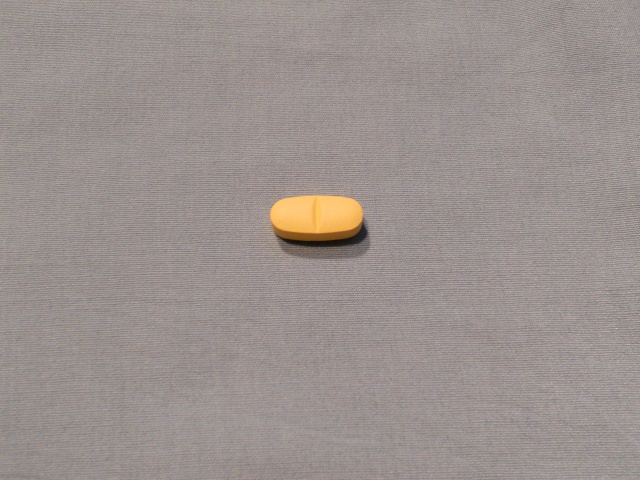|: (310, 196, 329, 237)
